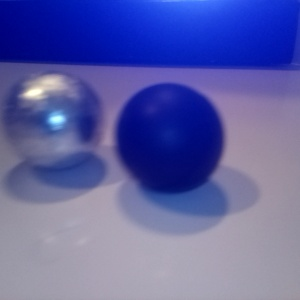alive_ball: (150, 41, 268, 162)
